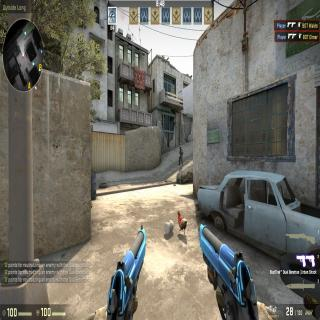CT-Body: (178, 144, 183, 165)
CT-Head: (179, 145, 182, 149)
